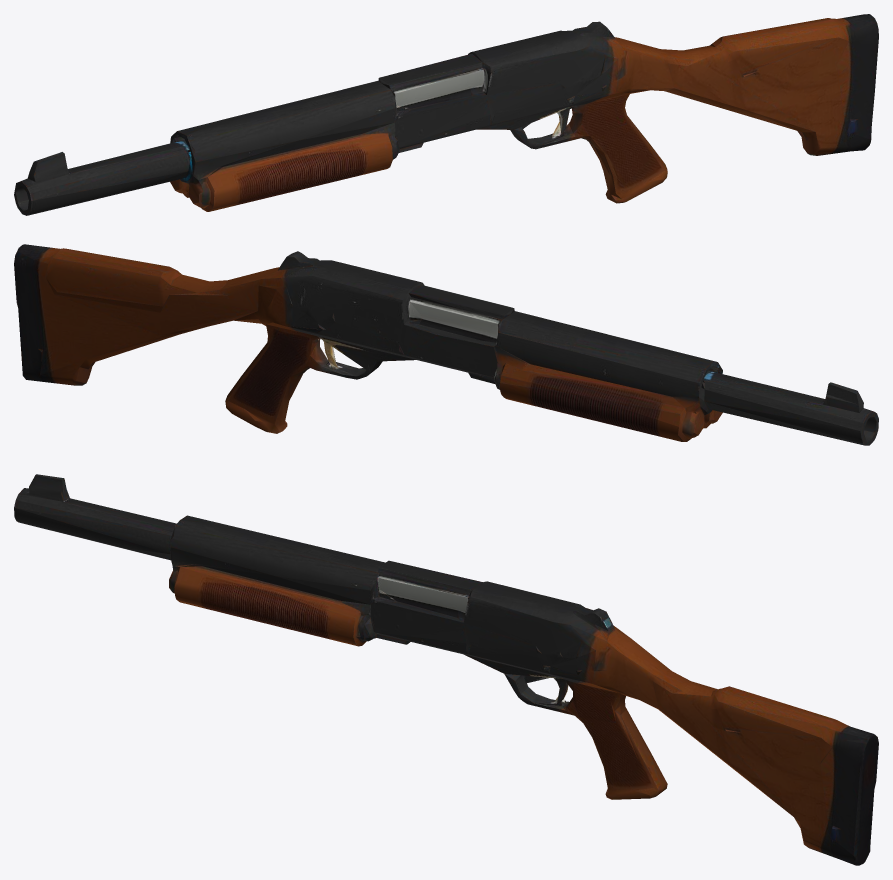
The model's file is BS_Weapon_Shotgun_final.glb.
3 renders of one model, top to bottom at view 1: azimuth 30°, elevation 25°; view 2: azimuth 150°, elevation 25°; view 3: azimuth 330°, elevation 25°, orthographic.
Size of the model in its own units: 1.9 by 0.4079 by 0.1533.
1 material, 1 textured.
